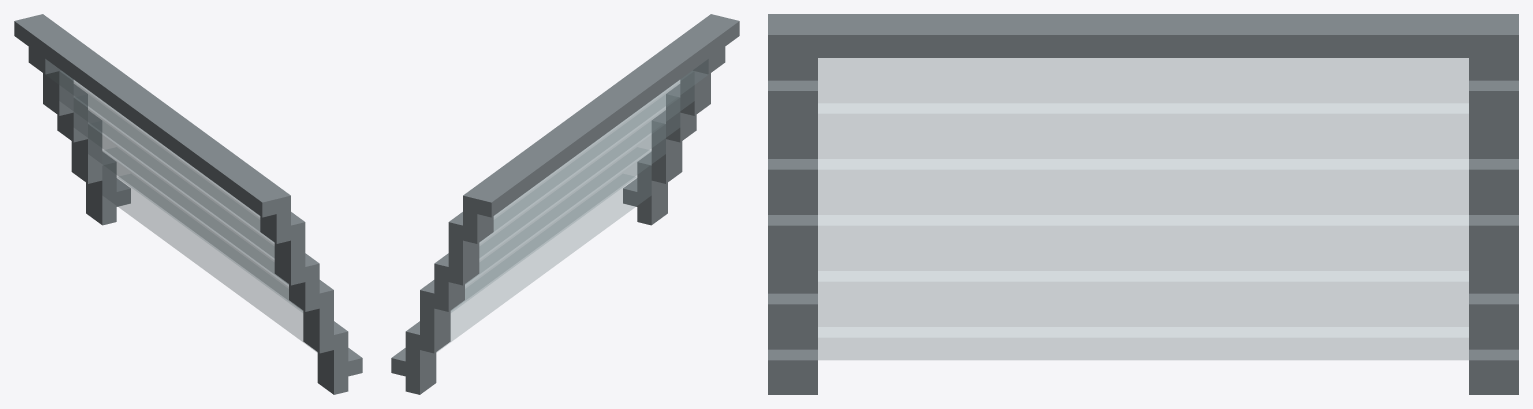
File: beach_buggy_windscreen.glb
3 views of the same model, side by side, from view 1: azimuth 30°, elevation 25°; view 2: azimuth 150°, elevation 25°; view 3: azimuth 270°, elevation 25° (orthographic). The views are drawn at different scales.
Parts seen in each view (by area): view 1: body:compound; view 2: body:compound; view 3: body:compound.
Part boxes in pixels (x1=…): body:compound: x1=14, y1=14, x2=362, y2=394; body:compound: x1=391, y1=14, x2=739, y2=394; body:compound: x1=768, y1=14, x2=1518, y2=394.
Bounding box in the file's own units: 0.2188 × 0.4375 × 0.9375.
